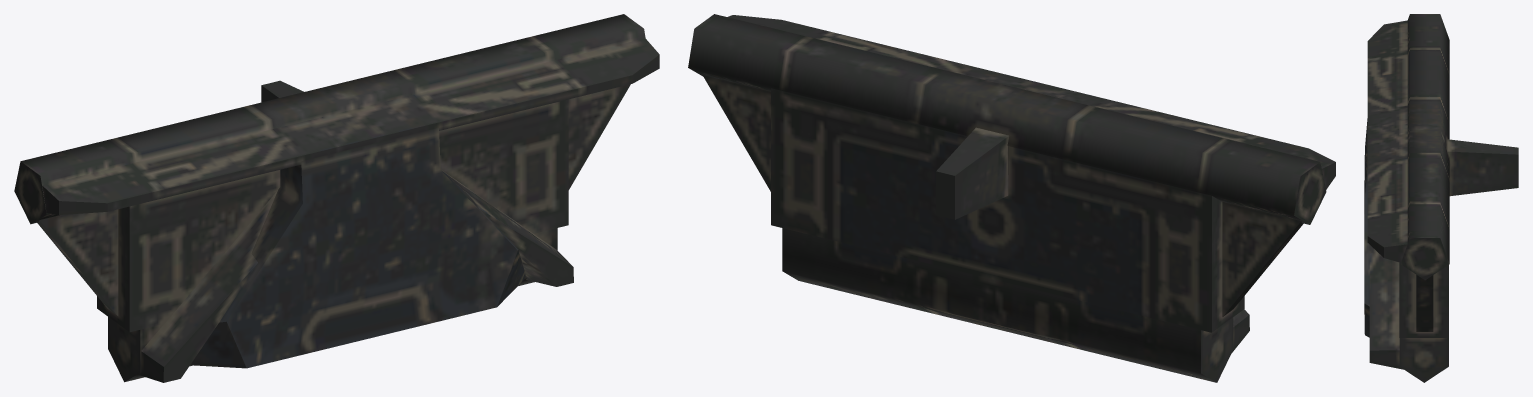
3 renders of one model, left to right at view 1: azimuth 30°, elevation 25°; view 2: azimuth 150°, elevation 25°; view 3: azimuth 270°, elevation 25°, orthographic. The views are drawn at different scales.
Visible parts, largest first — view 1: set_0_group_0; view 2: set_0_group_0; view 3: set_0_group_0.
Part boxes in pixels (x1=…): set_0_group_0: x1=14, y1=14, x2=659, y2=382; set_0_group_0: x1=688, y1=14, x2=1335, y2=382; set_0_group_0: x1=1364, y1=14, x2=1518, y2=382.
Size of the model in its own units: 0.5335 by 0.1994 by 0.1554.
Materials: 1 (1 with a texture image).
